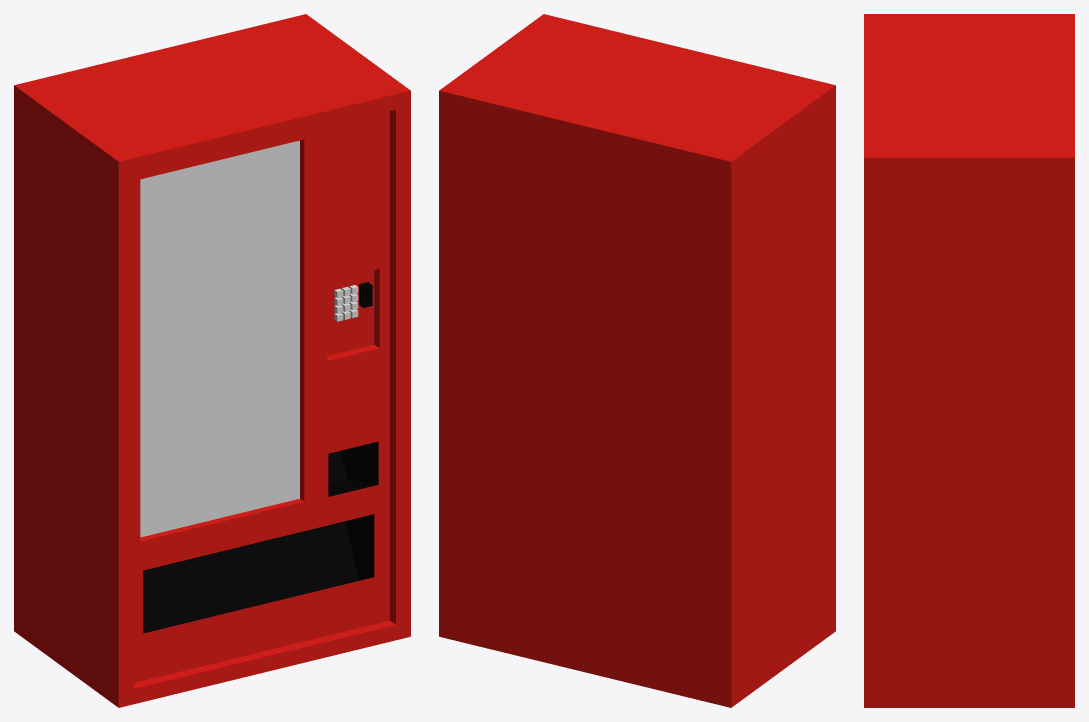
File: Vending Machine.fbx
The picture shows the model from 3 angles, left to right: view 1: azimuth 30°, elevation 25°; view 2: azimuth 150°, elevation 25°; view 3: azimuth 270°, elevation 25°; orthographic projection.
Parts seen in each view (by area): view 1: Vending-machine; view 2: Vending-machine; view 3: Vending-machine.
Part boxes in pixels (box(x1,y1,x2,y2)): Vending-machine: box(14, 14, 410, 707); Vending-machine: box(439, 14, 835, 707); Vending-machine: box(864, 14, 1074, 707).
Size of the model in its own units: 49.2 by 87.92 by 30.54.
